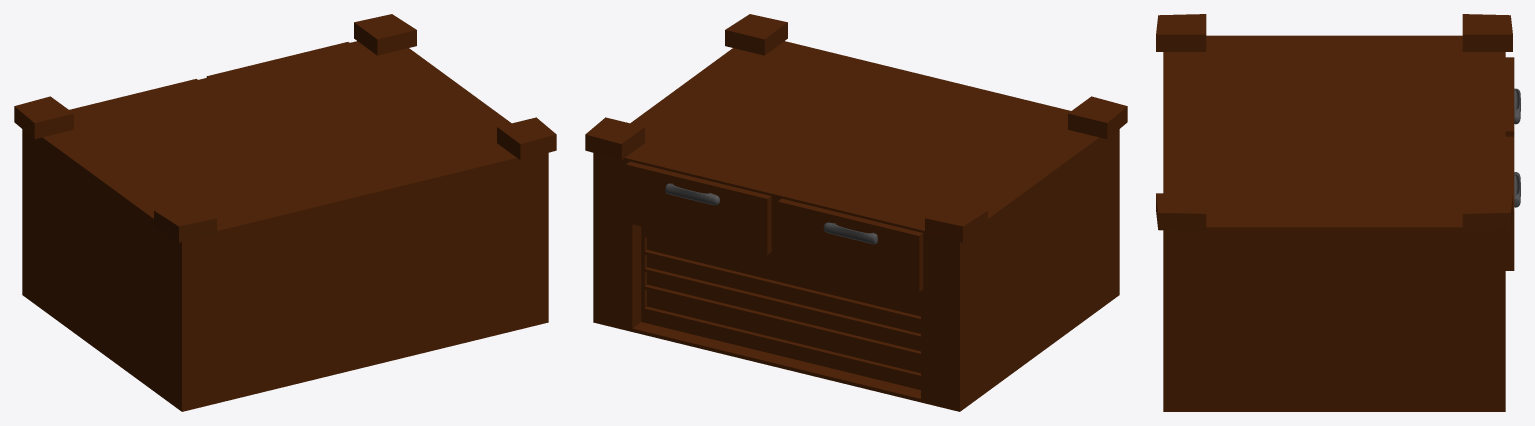
The model's file is meja 3_Scene.fbx.
The picture shows the model from 3 angles, left to right: view 1: azimuth 30°, elevation 25°; view 2: azimuth 150°, elevation 25°; view 3: azimuth 270°, elevation 25°; orthographic projection. The views are drawn at different scales.
Visible parts, largest first — view 1: Cube.049; view 2: Cube.049, Cube.050; view 3: Cube.049, Cube.050.
Boxes of the visible parts, x1,y1,x2,y2 form: Cube.049: (14,14,556,411); Cube.049: (585,14,1127,411); Cube.050: (665,183,877,244); Cube.049: (1156,14,1514,411); Cube.050: (1514,88,1520,207).
Bounding box in the file's own units: 257 × 121 × 198.
